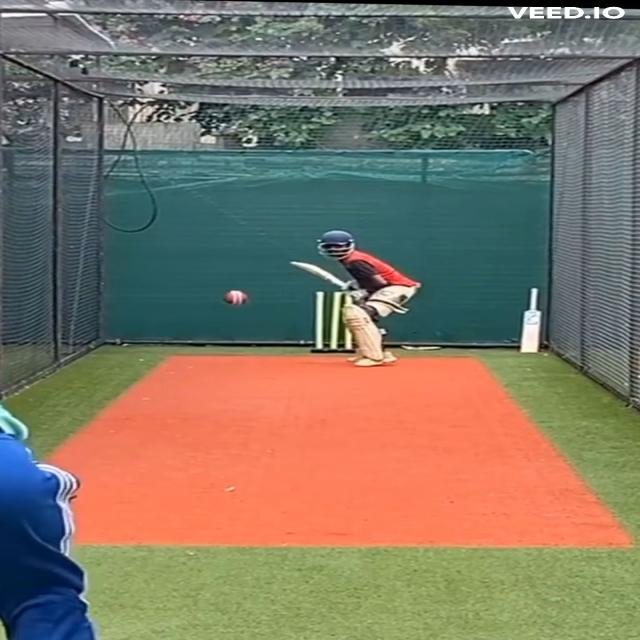ball: (218, 286, 253, 310)
stump: (309, 288, 360, 354)
